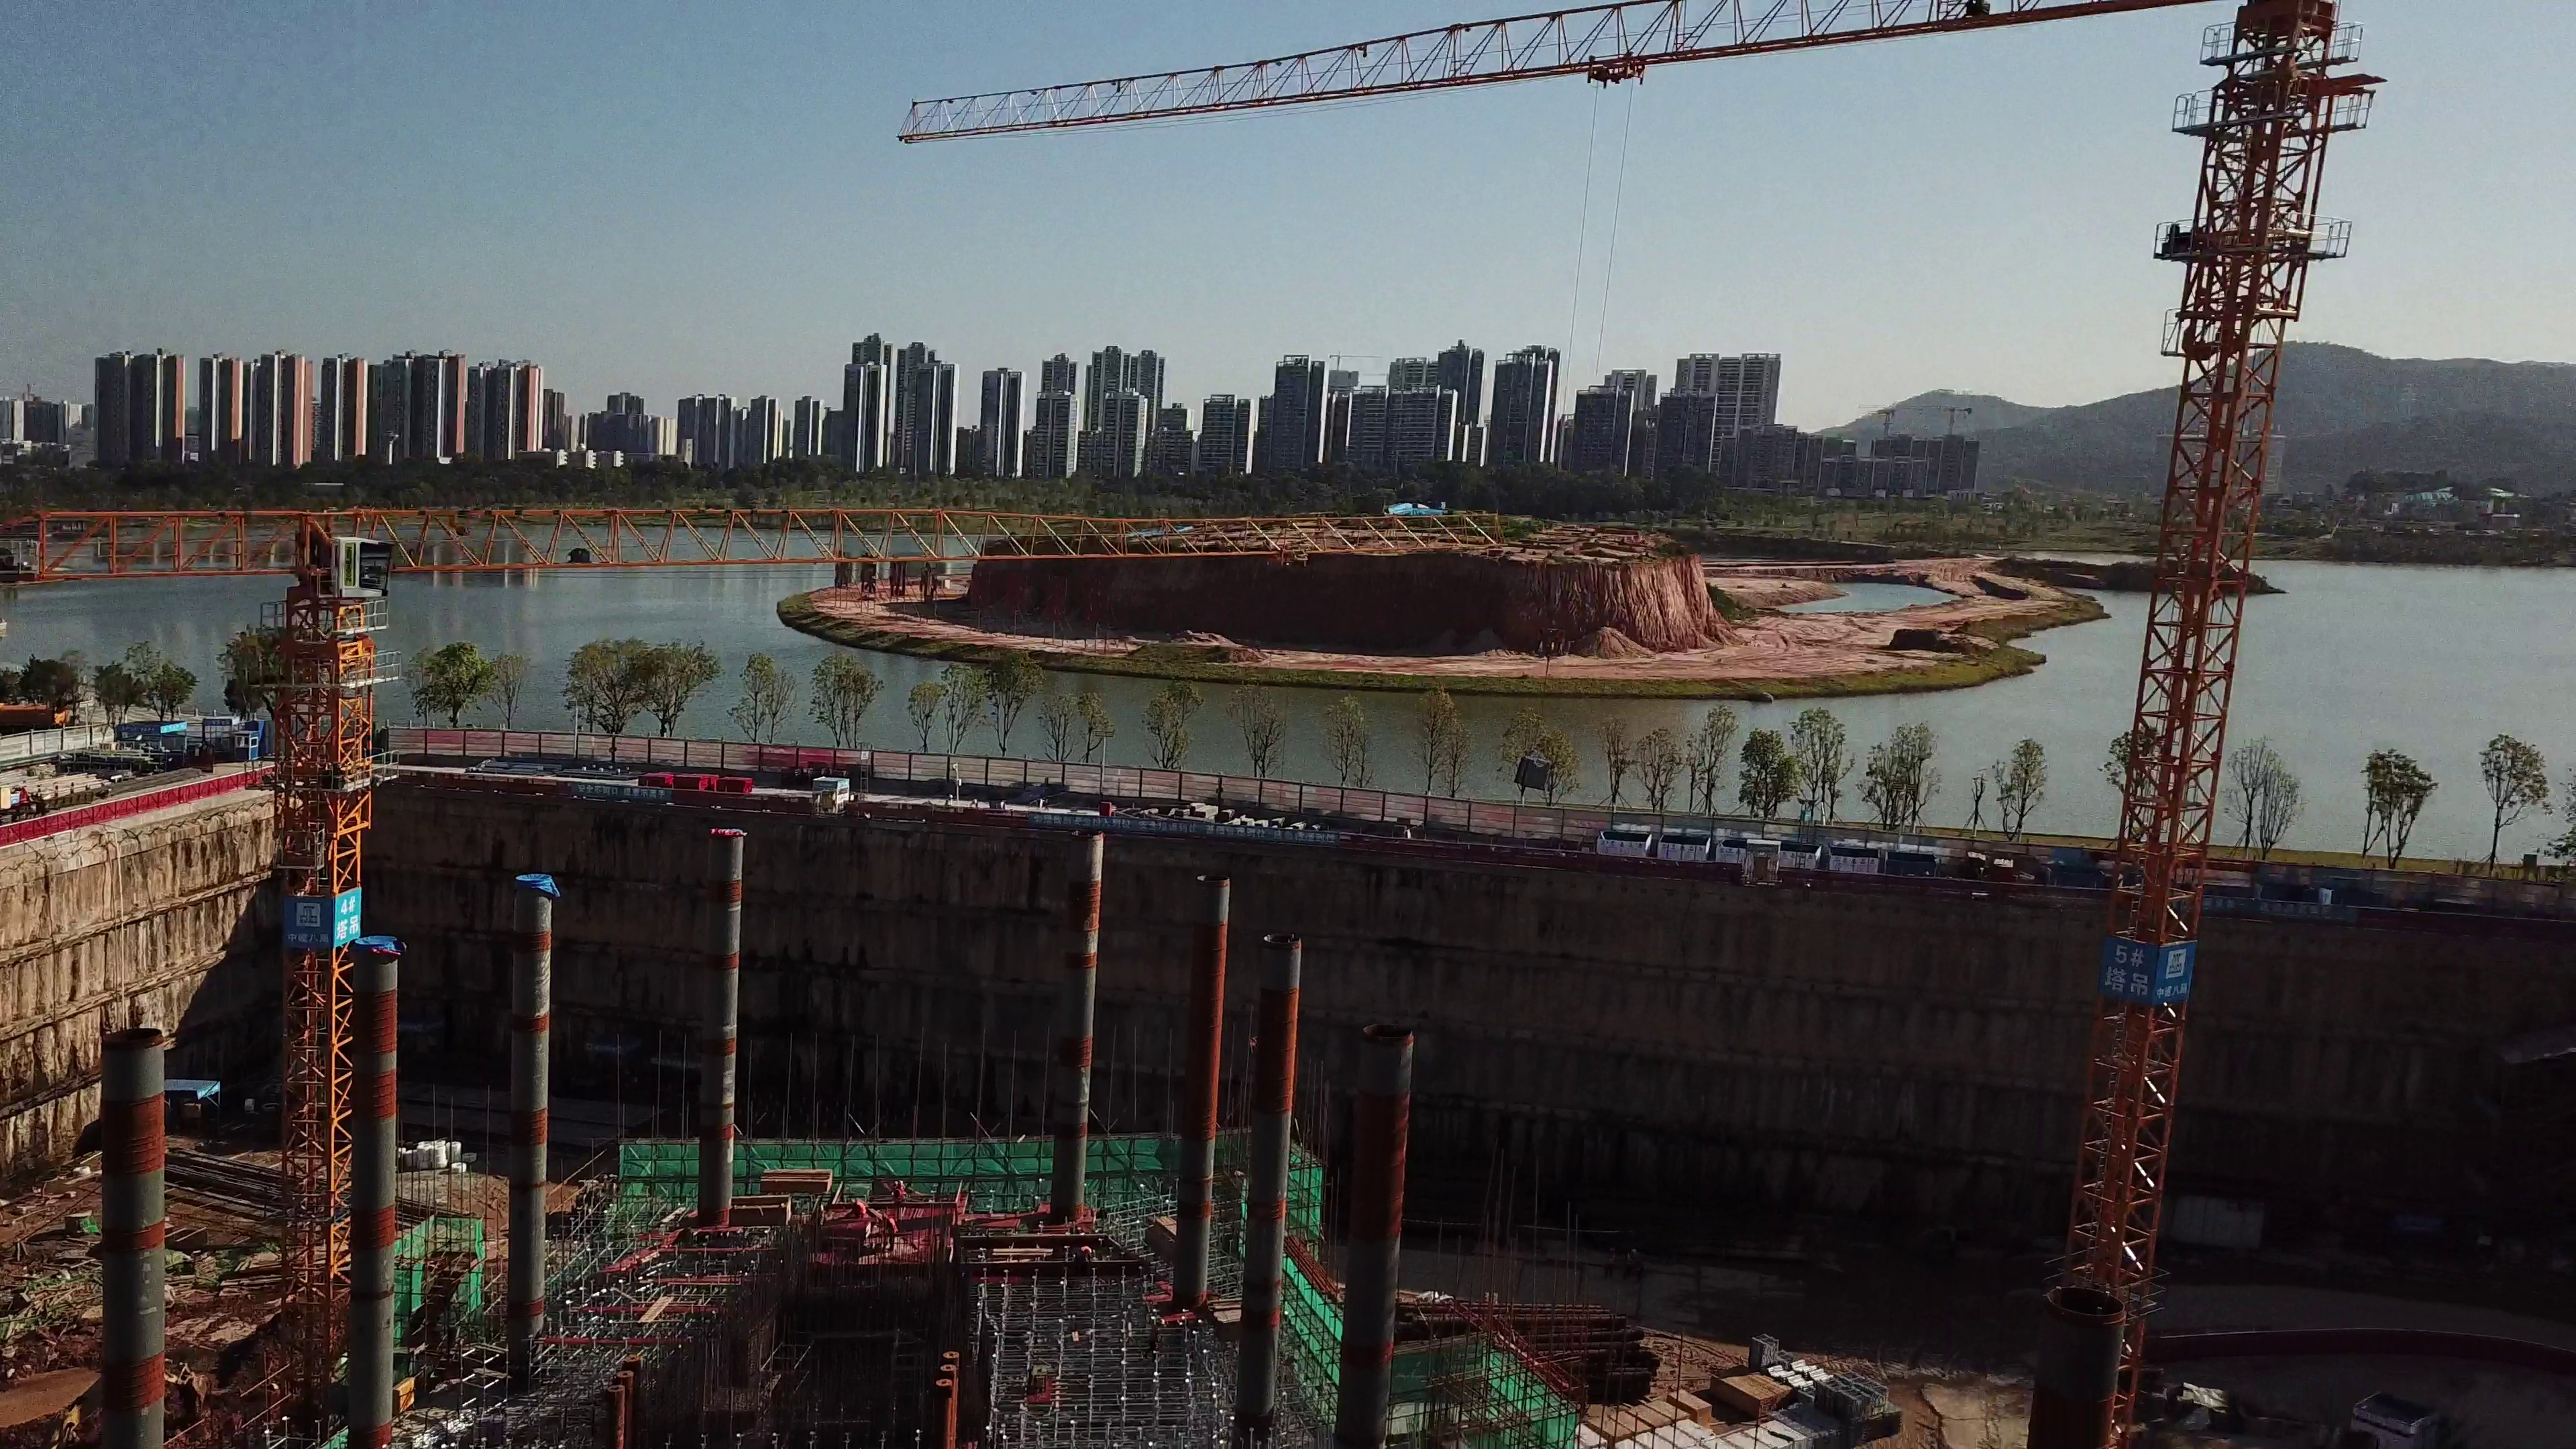fence: (1078, 771, 1923, 842), (66, 775, 248, 848)
helmet: (850, 1198, 854, 1203)
hook: (1531, 622, 1570, 660)
person: (881, 1208, 903, 1243), (890, 1178, 909, 1207), (845, 1196, 869, 1220), (1073, 1244, 1098, 1260)
rebar: (173, 1144, 341, 1214)
slogan: (2104, 938, 2155, 1000), (331, 892, 370, 947)
vest: (856, 1199, 866, 1216), (888, 1218, 900, 1234), (1079, 1244, 1091, 1254), (894, 1187, 903, 1201)
wood: (1132, 1210, 1199, 1263), (1210, 1301, 1272, 1346), (755, 1164, 840, 1195), (731, 1191, 793, 1229)
